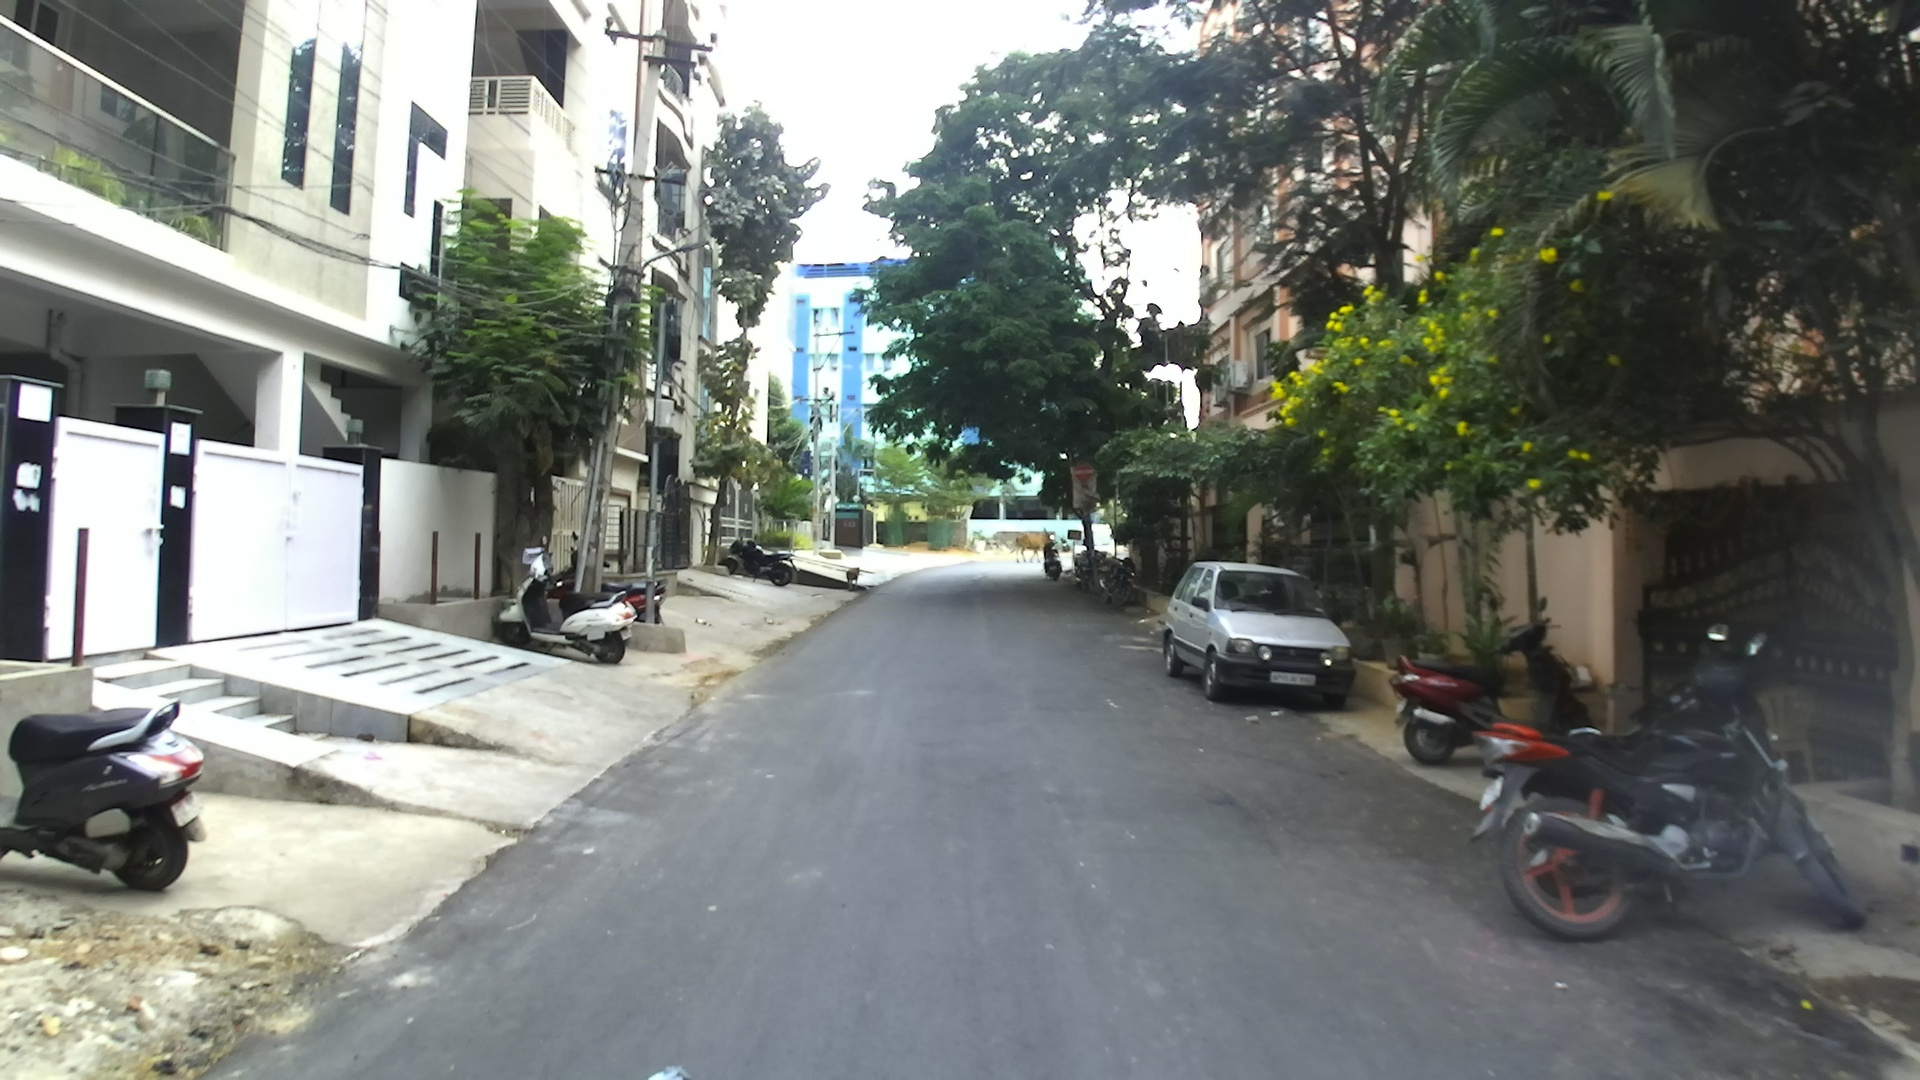vehicle: (1466, 626, 1869, 945), (1393, 620, 1600, 767), (1162, 560, 1356, 709)
